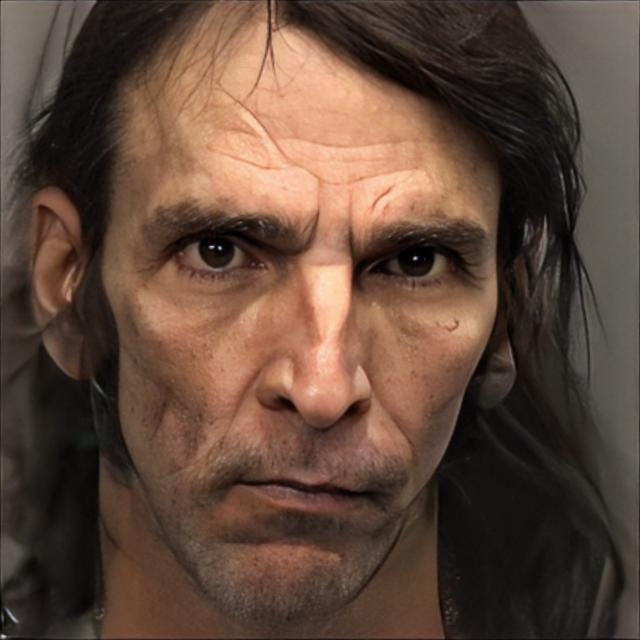anger: (97, 52, 500, 621)
